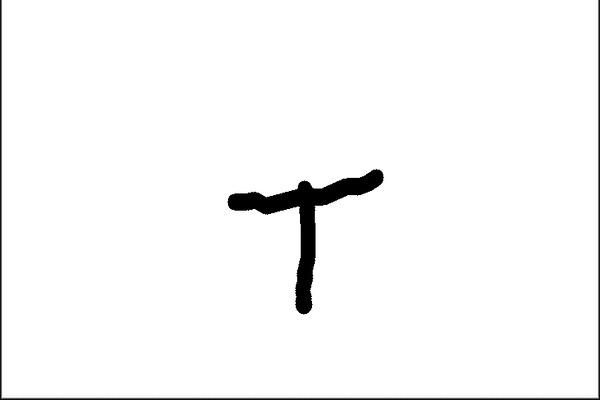T: (217, 167, 384, 318)
